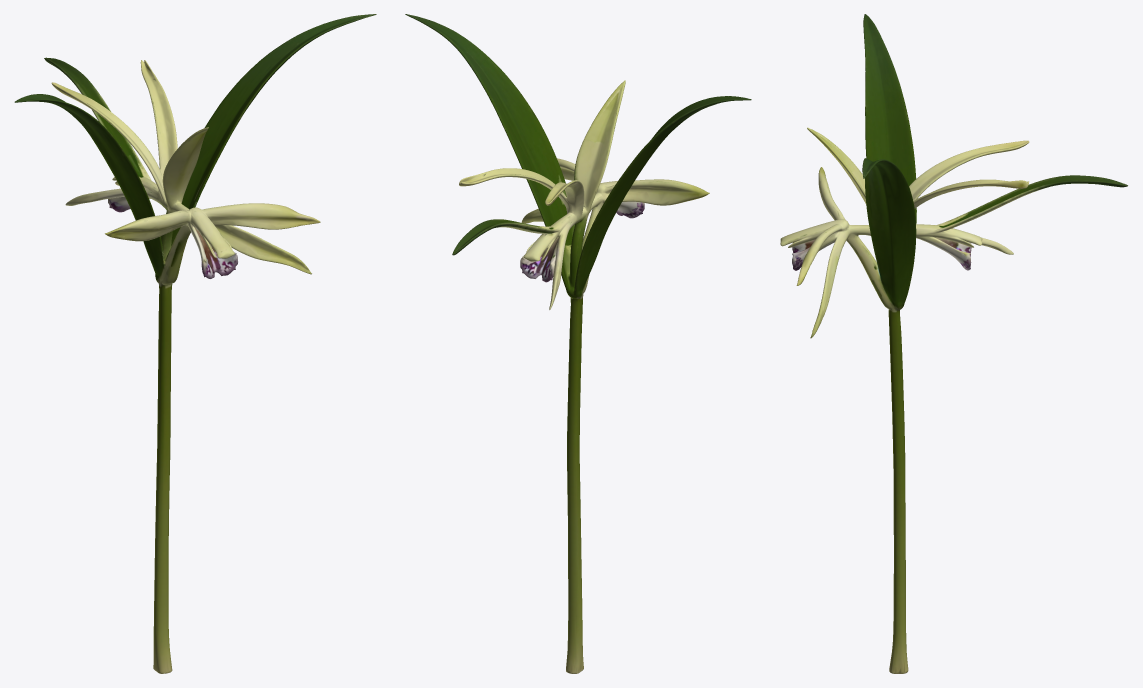
File: lanhua.glb
3 renders of one model, left to right at view 1: azimuth 30°, elevation 25°; view 2: azimuth 150°, elevation 25°; view 3: azimuth 270°, elevation 25°, orthographic. The views are drawn at different scales.
Parts seen in each view (by area): view 1: node_0; view 2: node_0; view 3: node_0.
Boxes of the visible parts, x1=… form: node_0: x1=14, y1=14, x2=376, y2=673; node_0: x1=405, y1=14, x2=751, y2=673; node_0: x1=780, y1=14, x2=1127, y2=673.
Bounding box in the file's own units: 0.6047 × 0.9966 × 0.5394.
Materials: 1 (1 with a texture image).
